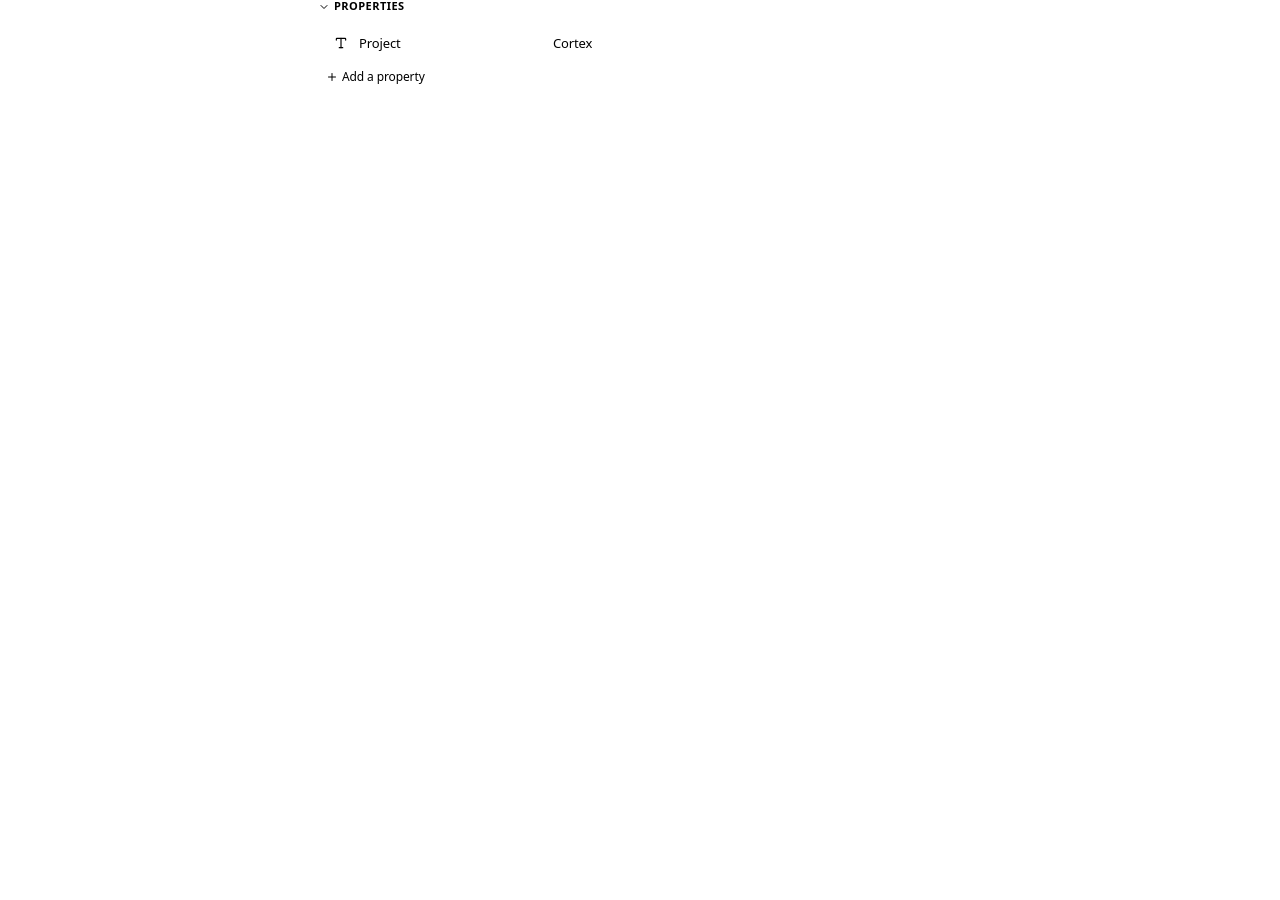
Property value editors › commits once when Enter closes a text editor before blur
This screenshot has width=1280, height=900.
expect the text "Cortex" is shown: met, box [553,35,592,51]
Click the button with class "note-property-value". click: (573, 43)
box: [544,24,960,61]
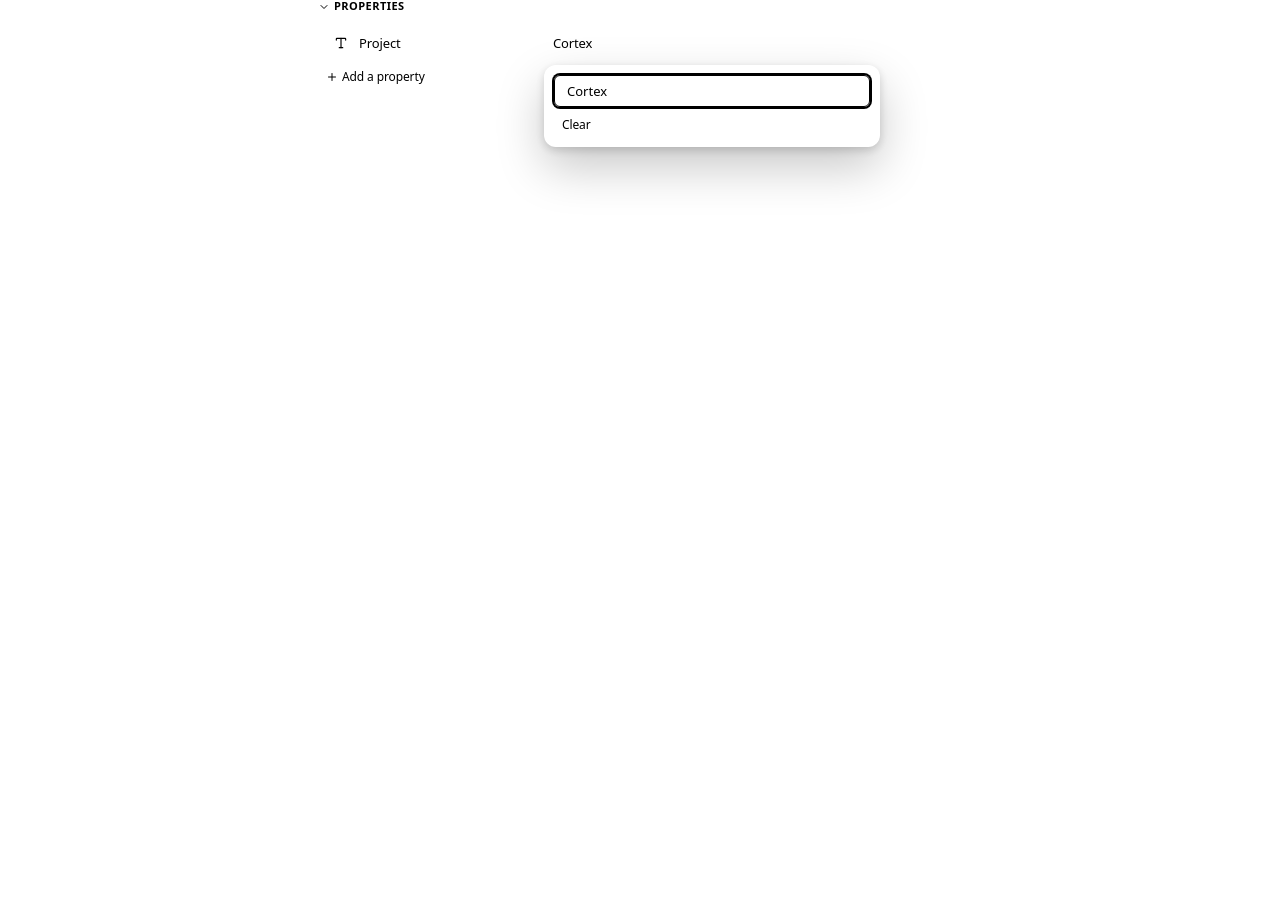
Replace the text in the field named "project" with "Atlas". click: (712, 91)
box: [554,75,870,107]
Then press Enter
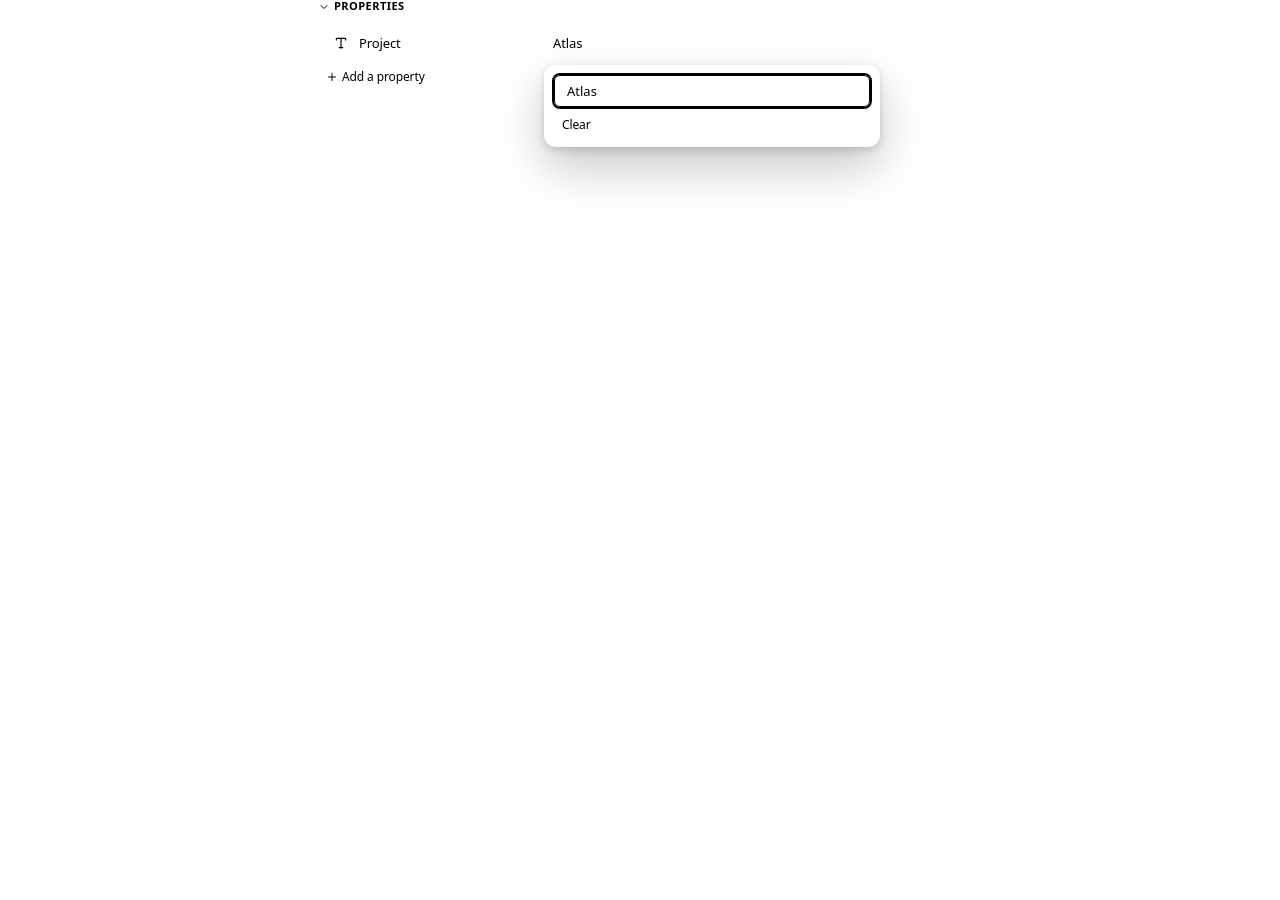
expect the text "Cortex" reads "Atlas": met, box [553,34,582,52]
